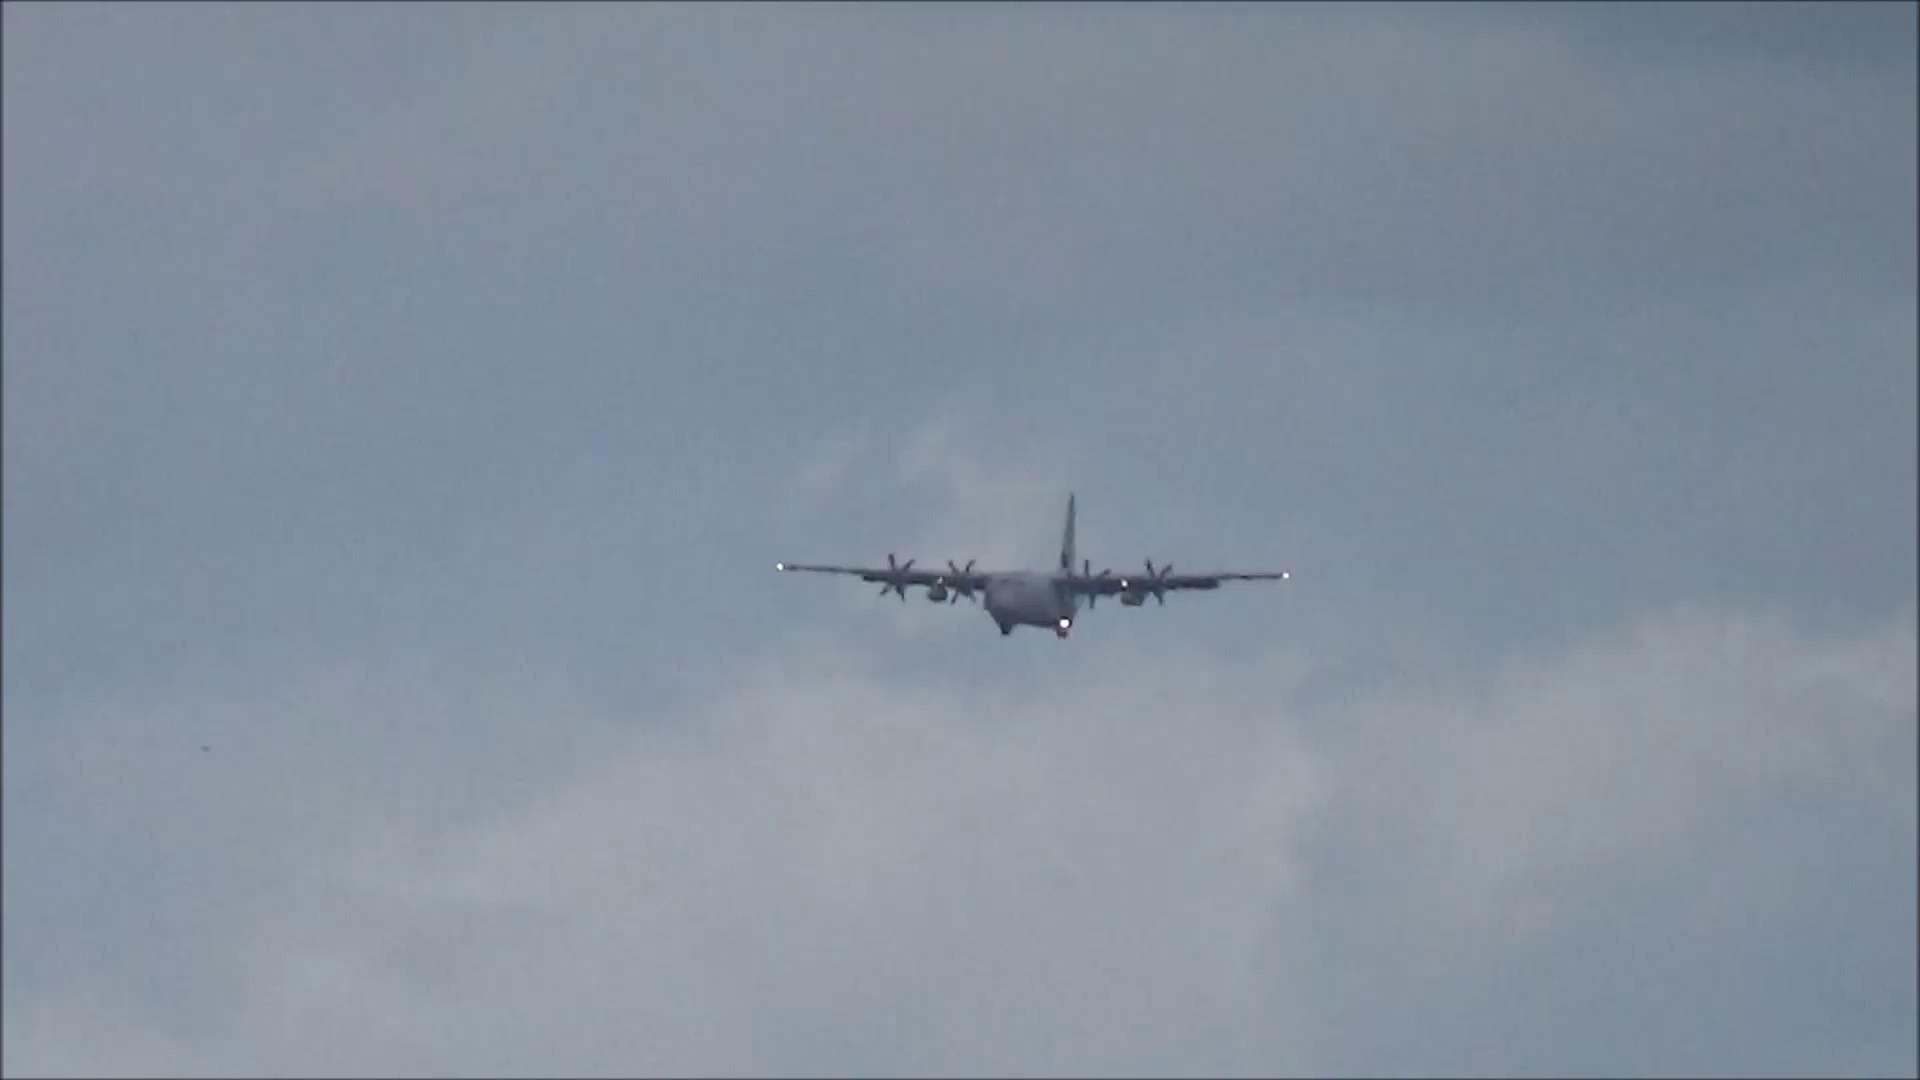Airplane: (764, 483, 1296, 630)
